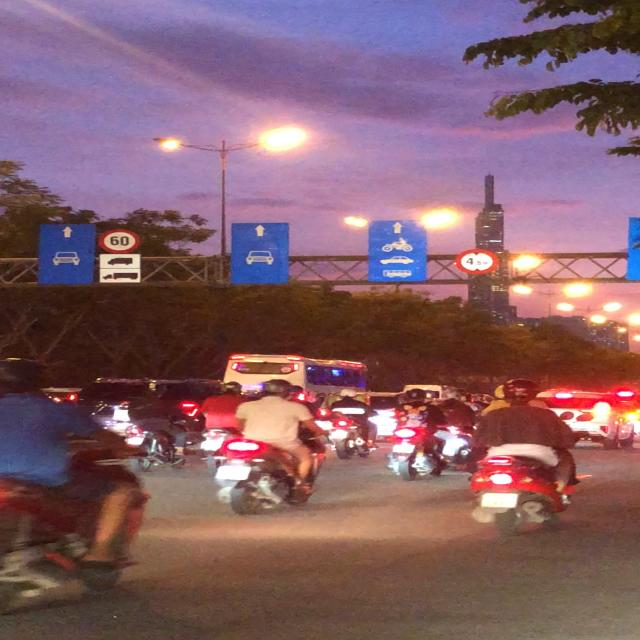Bien bao han che chieu cao: (452, 248, 506, 278)
Bien bao toc do toi da cho phep: (97, 227, 143, 253)
